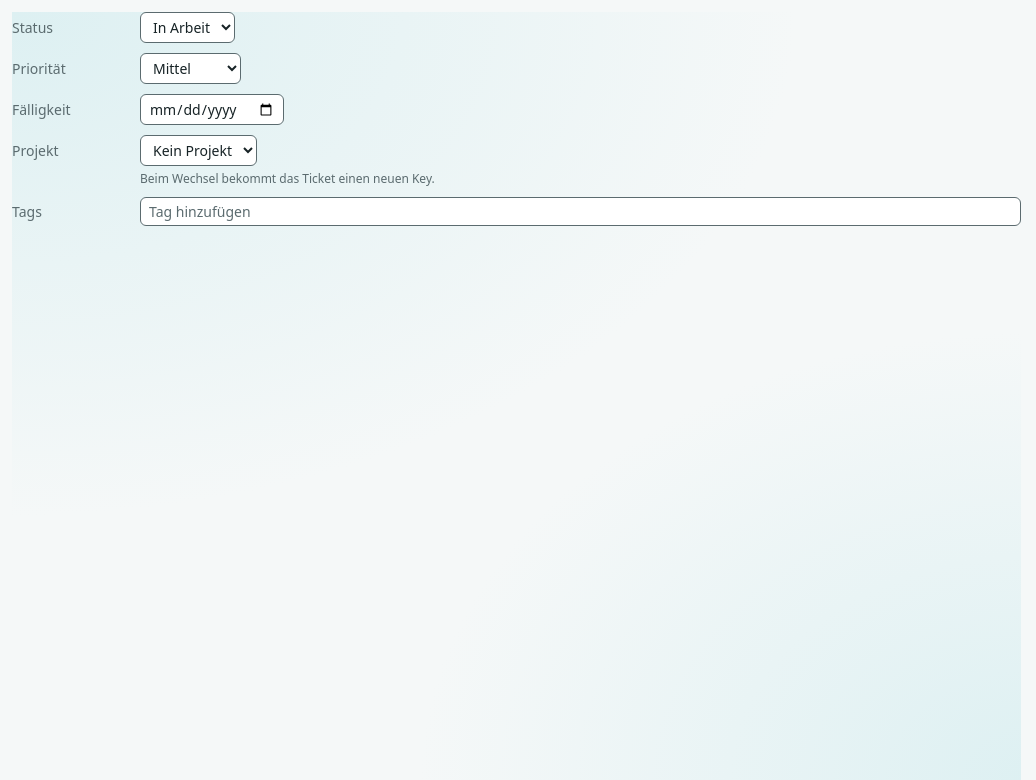
it: status "Erledigt" of a ticket with open blocking sub-tasks › cancels with Escape, consumes it and returns the focus to the status
This screenshot has width=1036, height=780.
Select "Erledigt" in the dropdown labelled "Status": (188,28) [140,12,235,43]
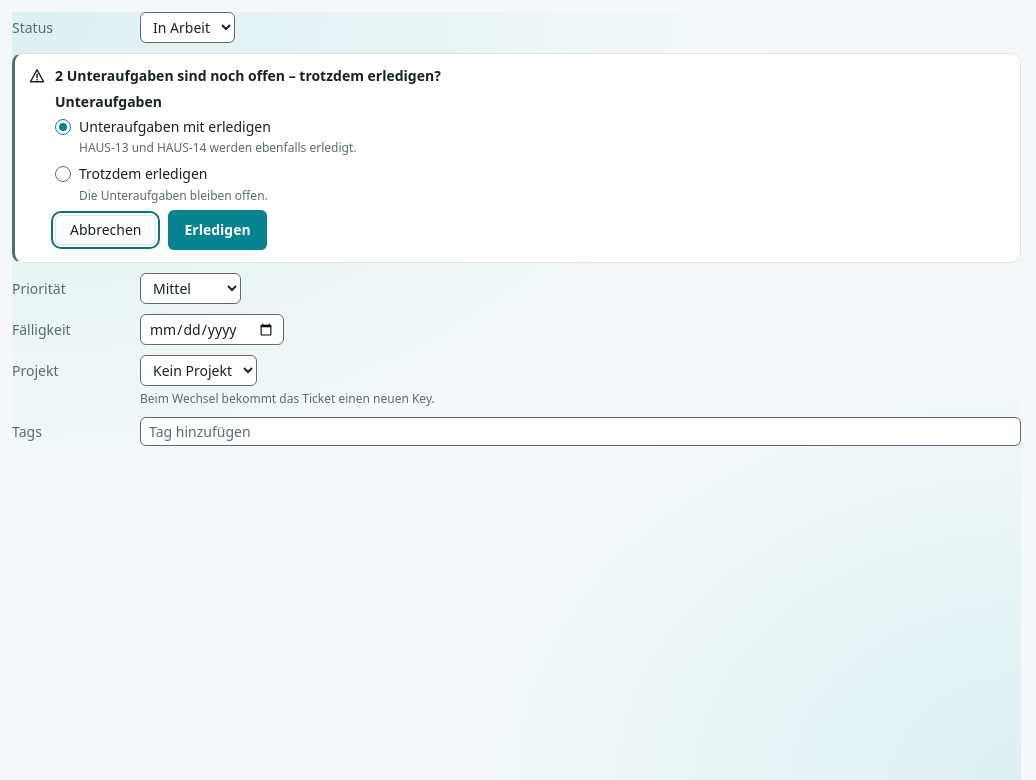
Press Escape in the button "Abbrechen", box [55,215,156,245]
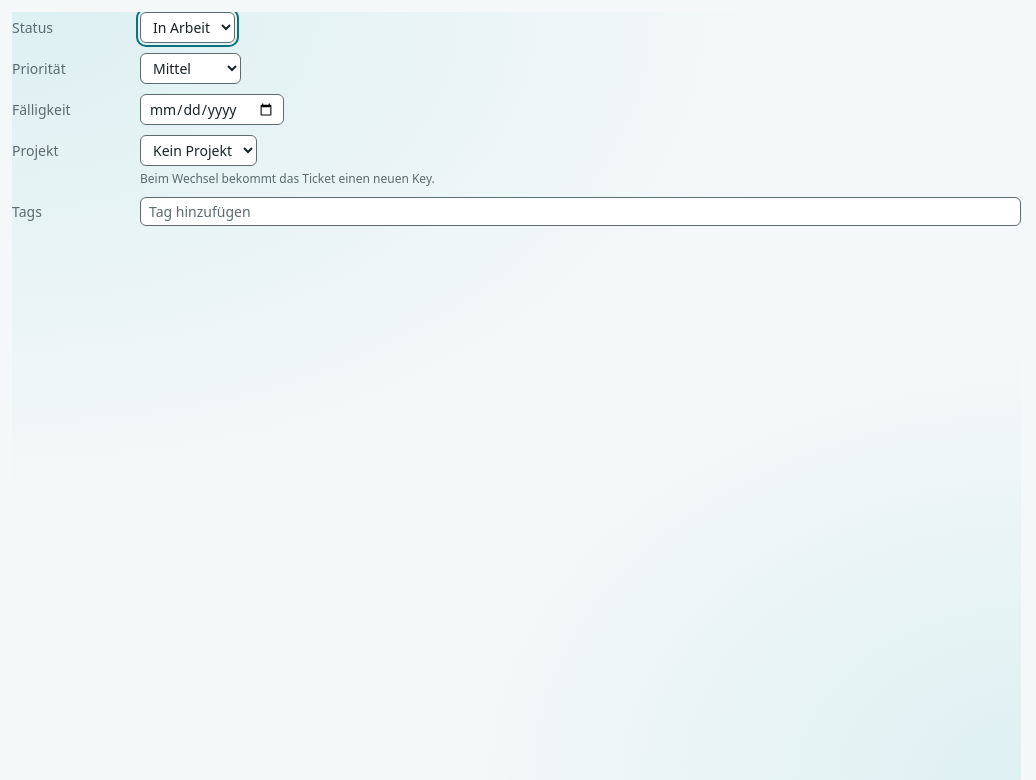
expect the heading "erledigen" is gone: met
